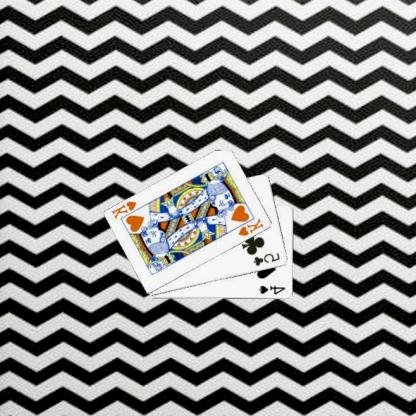4S: (259, 282, 288, 296)
5C: (253, 250, 283, 268)
KH: (110, 198, 140, 221), (238, 216, 267, 238)
